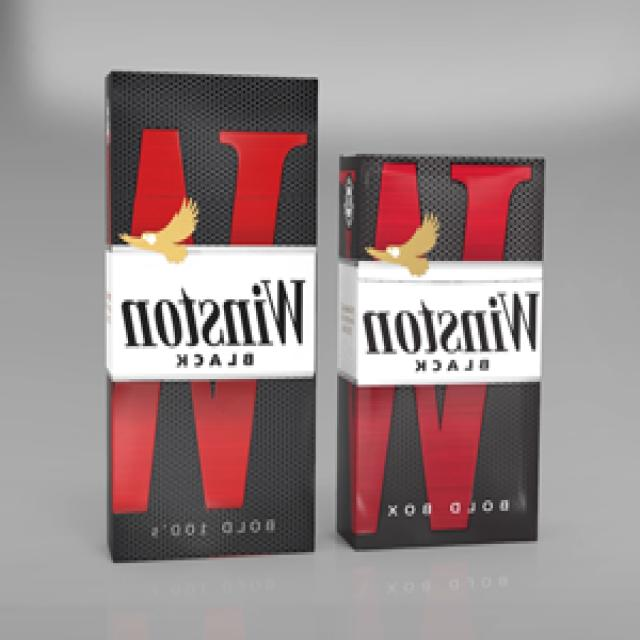winston: (103, 70, 324, 561), (336, 144, 548, 550)
